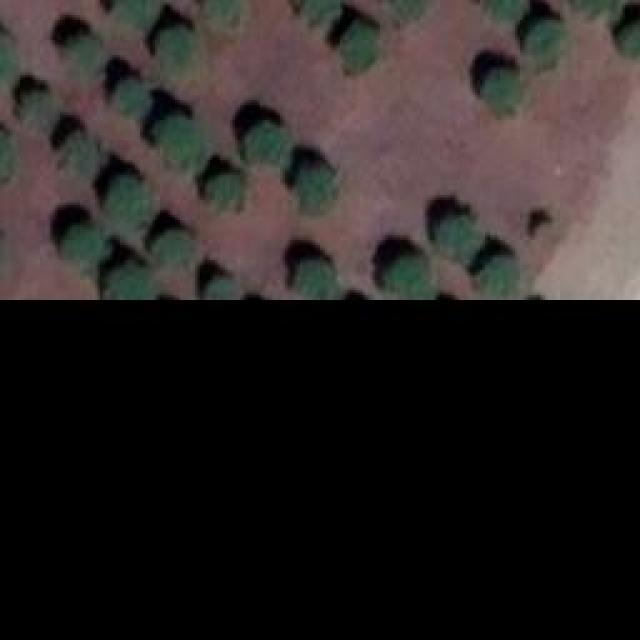Tree: (158, 113, 203, 168), (240, 120, 290, 168), (380, 253, 433, 298), (290, 165, 343, 210), (58, 225, 110, 270), (335, 23, 380, 73), (158, 25, 201, 75), (108, 175, 151, 223), (523, 17, 566, 65), (438, 213, 481, 258), (477, 255, 525, 295), (483, 70, 523, 118), (100, 260, 150, 298), (203, 170, 246, 213), (150, 230, 193, 268), (293, 260, 336, 298), (58, 135, 98, 175), (62, 32, 100, 70), (202, 0, 245, 32), (113, 75, 146, 110), (115, 0, 153, 30), (202, 270, 240, 298), (23, 93, 53, 128), (617, 17, 640, 62), (295, 0, 345, 20), (478, 0, 523, 18), (385, 0, 423, 20), (573, 0, 608, 15)
